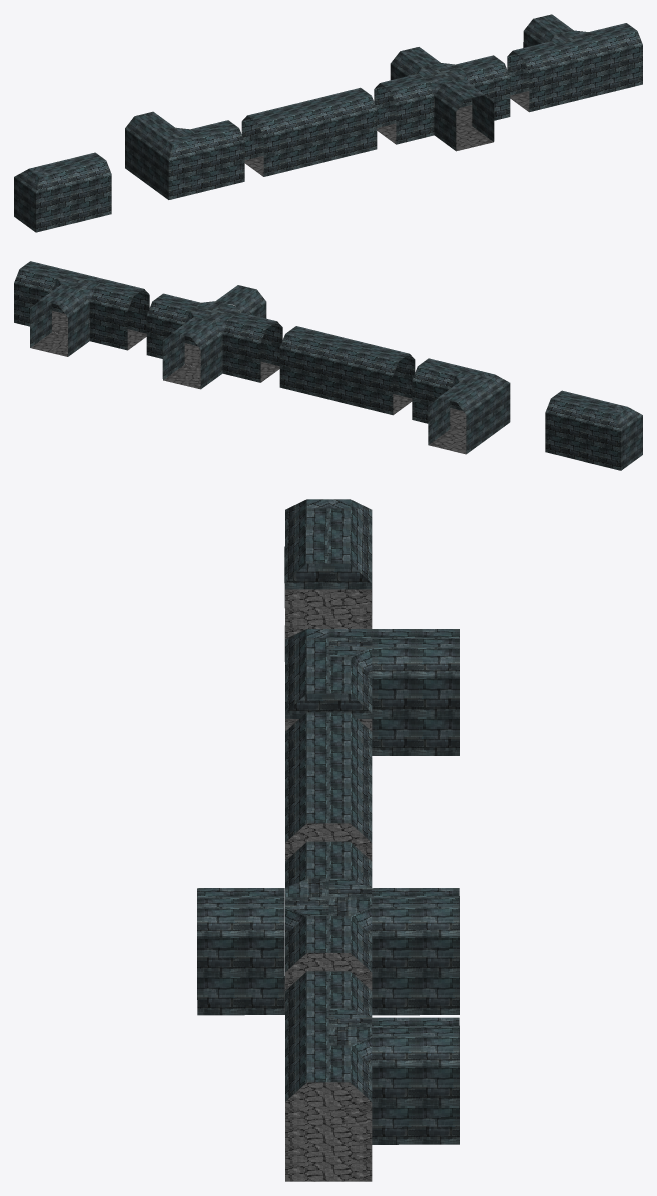
File: maze-tileset.glb
3 renders of one model, top to bottom at view 1: azimuth 30°, elevation 25°; view 2: azimuth 150°, elevation 25°; view 3: azimuth 270°, elevation 25°, orthographic. The views are drawn at different scales.
Visible parts, largest first — view 1: cross-col, t-col, path-col, corner-col, end-col; view 2: cross-col, t-col, path-col, corner-col, end-col; view 3: cross-col, t-col, corner-col, path-col, end-col.
Part boxes in pixels (<box>): cross-col: <box>374,47,510,151</box>; t-col: <box>507,14,642,112</box>; path-col: <box>241,87,377,176</box>; corner-col: <box>125,111,244,199</box>; end-col: <box>14,152,111,232</box>; cross-col: <box>146,285,282,389</box>; t-col: <box>14,261,149,356</box>; path-col: <box>279,326,415,415</box>; corner-col: <box>412,358,510,454</box>; end-col: <box>545,390,642,470</box>; cross-col: <box>197,841,459,1015</box>; t-col: <box>285,971,459,1181</box>; corner-col: <box>285,629,459,755</box>; path-col: <box>285,712,372,860</box>; end-col: <box>284,499,372,661</box>.
Bounding box in the file's own units: 32 × 2.51 × 6.01.
2 materials, 2 textured.
